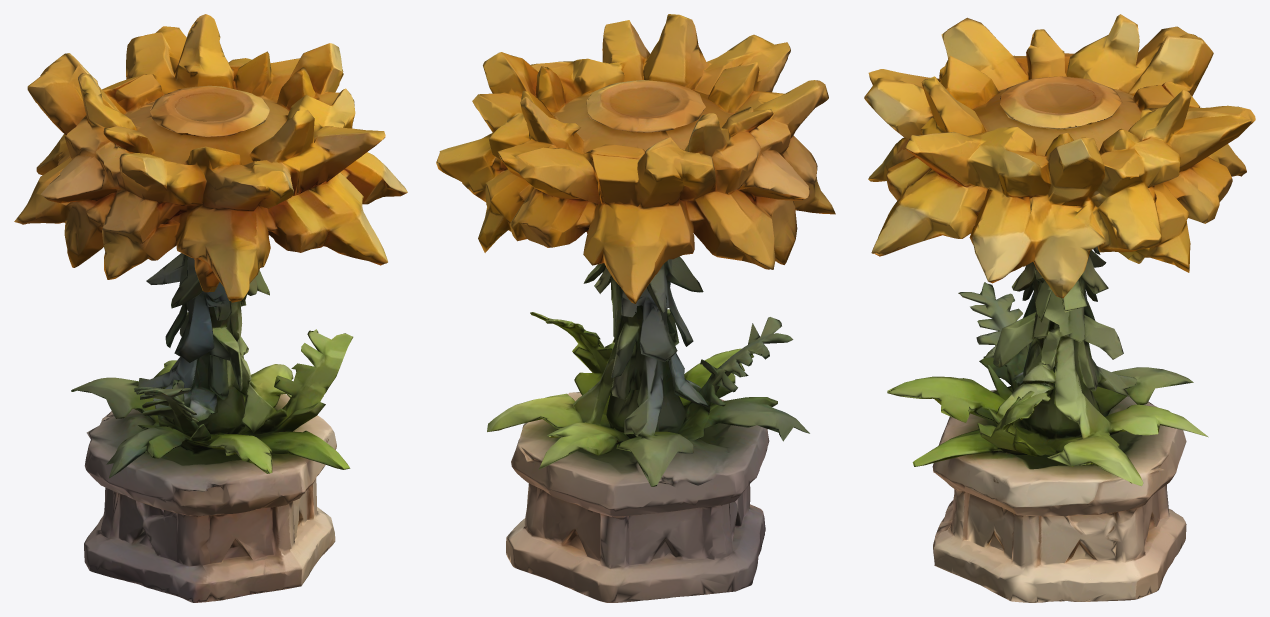
Rendered from thorn-crown.glb.
The picture shows the model from 3 angles, left to right: view 1: azimuth 30°, elevation 25°; view 2: azimuth 150°, elevation 25°; view 3: azimuth 270°, elevation 25°; orthographic projection. The views are drawn at different scales.
Visible parts, largest first — view 1: tripo_node_981e6be6-d500-4ce3-8f1b-ff33fbf7f1a4; view 2: tripo_node_981e6be6-d500-4ce3-8f1b-ff33fbf7f1a4; view 3: tripo_node_981e6be6-d500-4ce3-8f1b-ff33fbf7f1a4.
Boxes of the visible parts, x1=… form: tripo_node_981e6be6-d500-4ce3-8f1b-ff33fbf7f1a4: x1=14, y1=14, x2=407, y2=602; tripo_node_981e6be6-d500-4ce3-8f1b-ff33fbf7f1a4: x1=436, y1=14, x2=835, y2=602; tripo_node_981e6be6-d500-4ce3-8f1b-ff33fbf7f1a4: x1=864, y1=14, x2=1255, y2=602.
Bounding box in the file's own units: 0.7097 × 0.9793 × 0.7107.
1 material, 1 textured.
